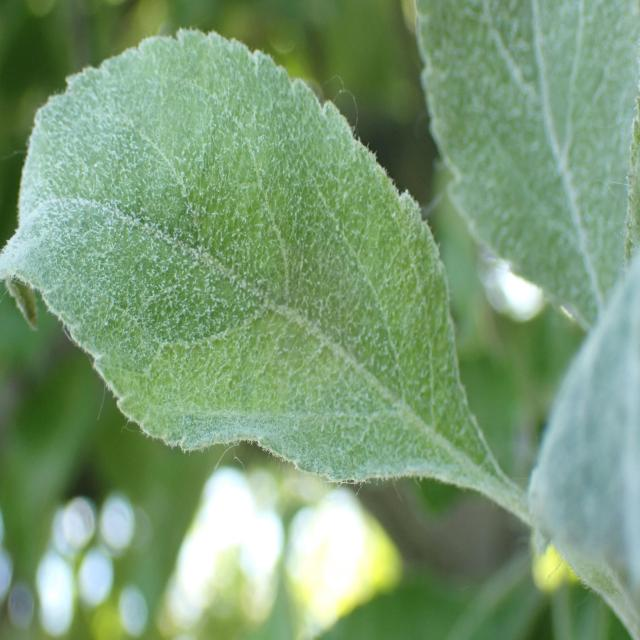Powdery_mildew: (8, 34, 488, 518), (412, 0, 640, 382), (515, 228, 640, 640)
